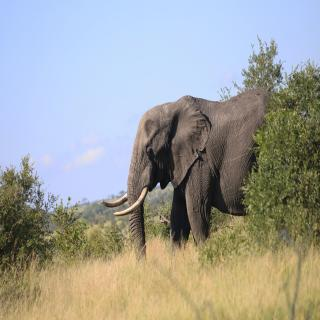Elephant: (100, 86, 281, 264)
